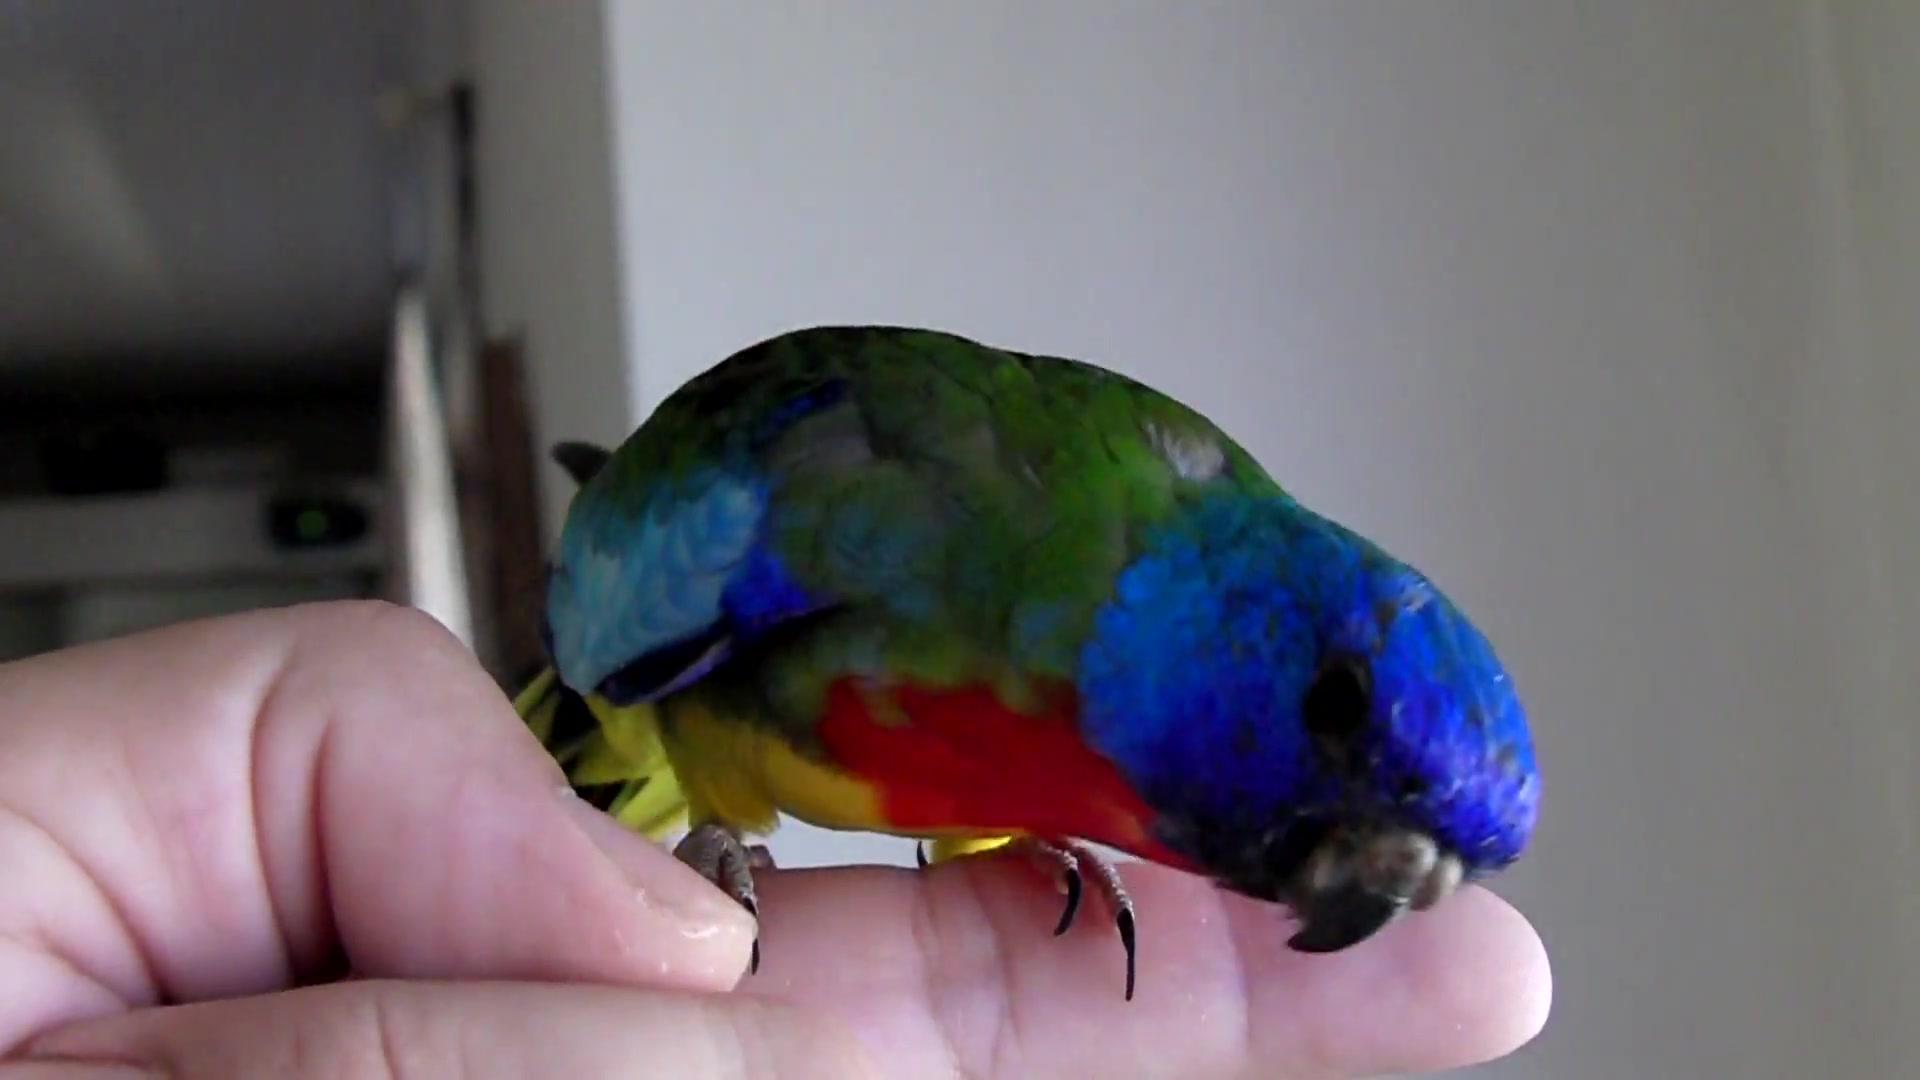bird: (510, 324, 1545, 1005)
